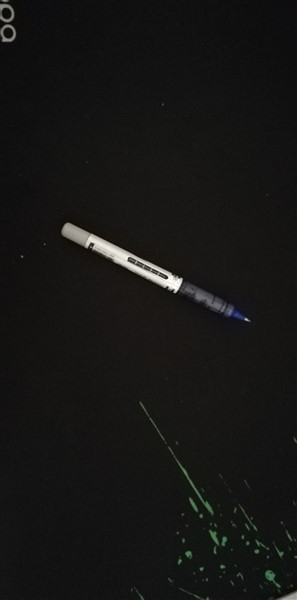pilot kalem: (56, 216, 256, 330)
